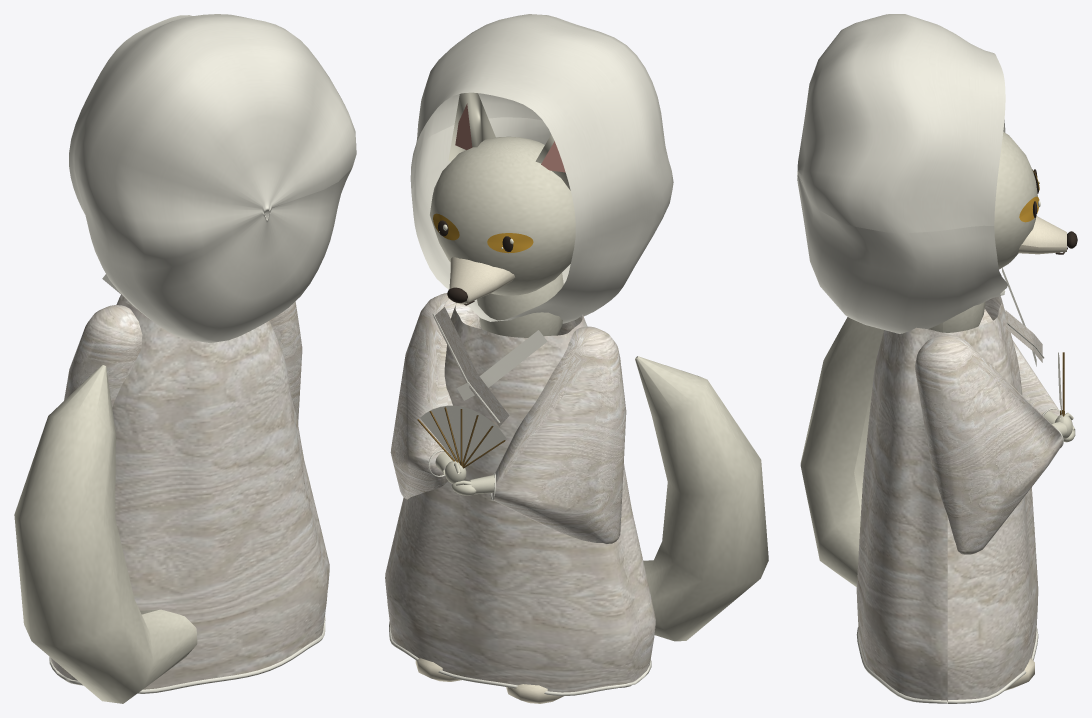
File: nyanisyarud-yokai-fox-bride.glb
3 renders of one model, left to right at view 1: azimuth 30°, elevation 25°; view 2: azimuth 150°, elevation 25°; view 3: azimuth 270°, elevation 25°, orthographic. The views are drawn at different scales.
Visible parts, largest first — view 1: Bride_Compact_Arms_Hanging_Kimono_Sleeves; view 2: Bride_Compact_Arms_Hanging_Kimono_Sleeves; view 3: Bride_Compact_Arms_Hanging_Kimono_Sleeves.
Boxes of the visible parts, box(x1,y1,x2,y2) form: Bride_Compact_Arms_Hanging_Kimono_Sleeves: box(14, 14, 356, 703); Bride_Compact_Arms_Hanging_Kimono_Sleeves: box(385, 14, 768, 703); Bride_Compact_Arms_Hanging_Kimono_Sleeves: box(797, 14, 1077, 703).
Size of the model in its own units: 1.03 by 1.87 by 0.75.
1 material, 1 textured.
